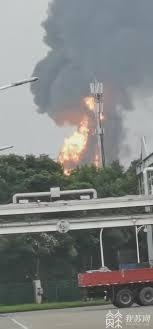fire: (55, 93, 104, 171)
